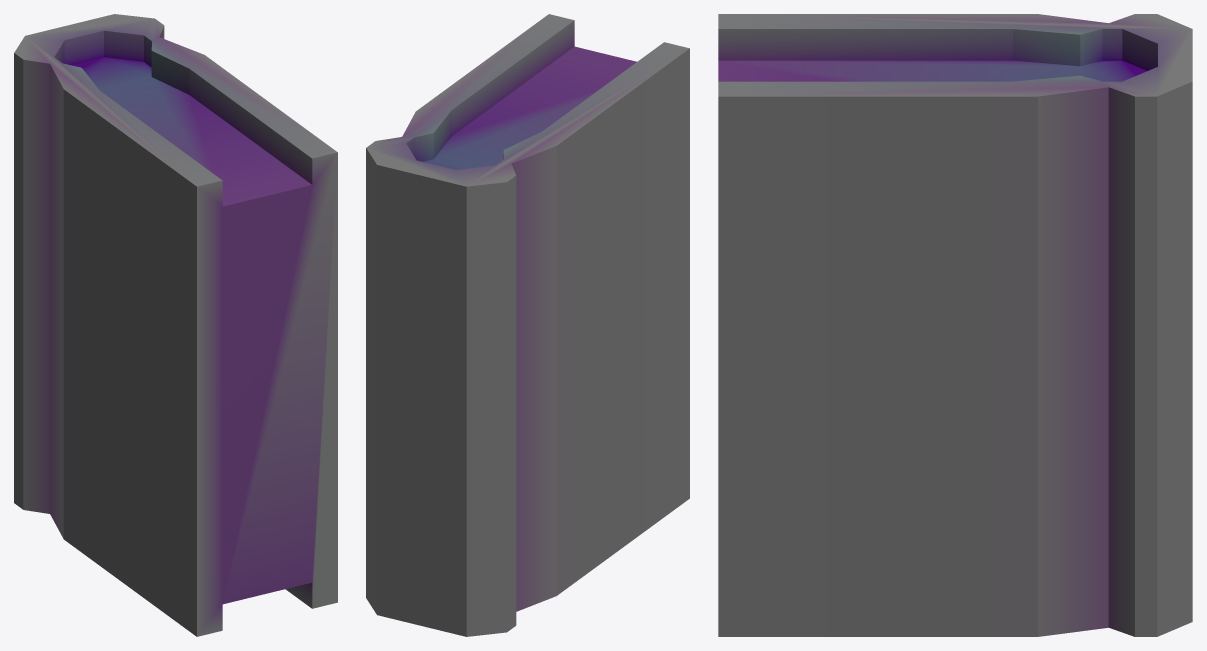
3 renders of one model, left to right at view 1: azimuth 30°, elevation 25°; view 2: azimuth 150°, elevation 25°; view 3: azimuth 270°, elevation 25°, orthographic. The views are drawn at different scales.
Parts seen in each view (by area): view 1: slab_body; view 2: slab_body; view 3: slab_body.
Boxes of the visible parts, left/top/right/bottom form: slab_body: left=14, top=14, right=337, bottom=636; slab_body: left=366, top=14, right=689, bottom=636; slab_body: left=718, top=14, right=1192, bottom=636.
Bounding box in the file's own units: 0.0786 × 0.24 × 0.1909.
